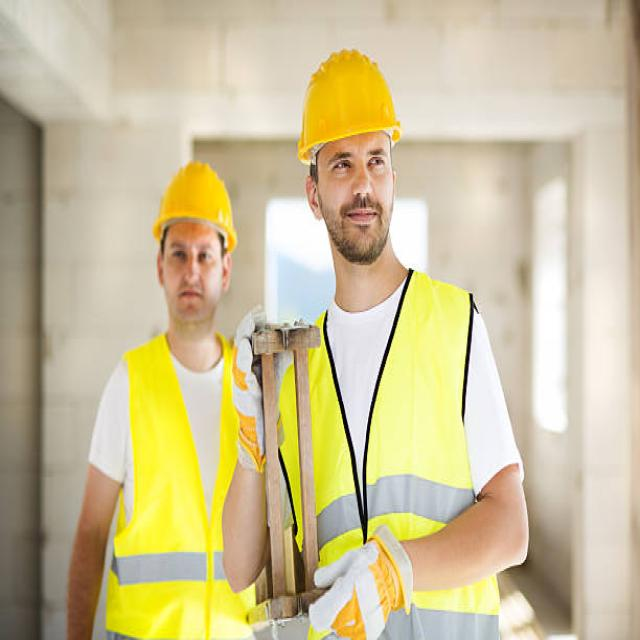gloves: (232, 308, 312, 472), (314, 525, 411, 640)
